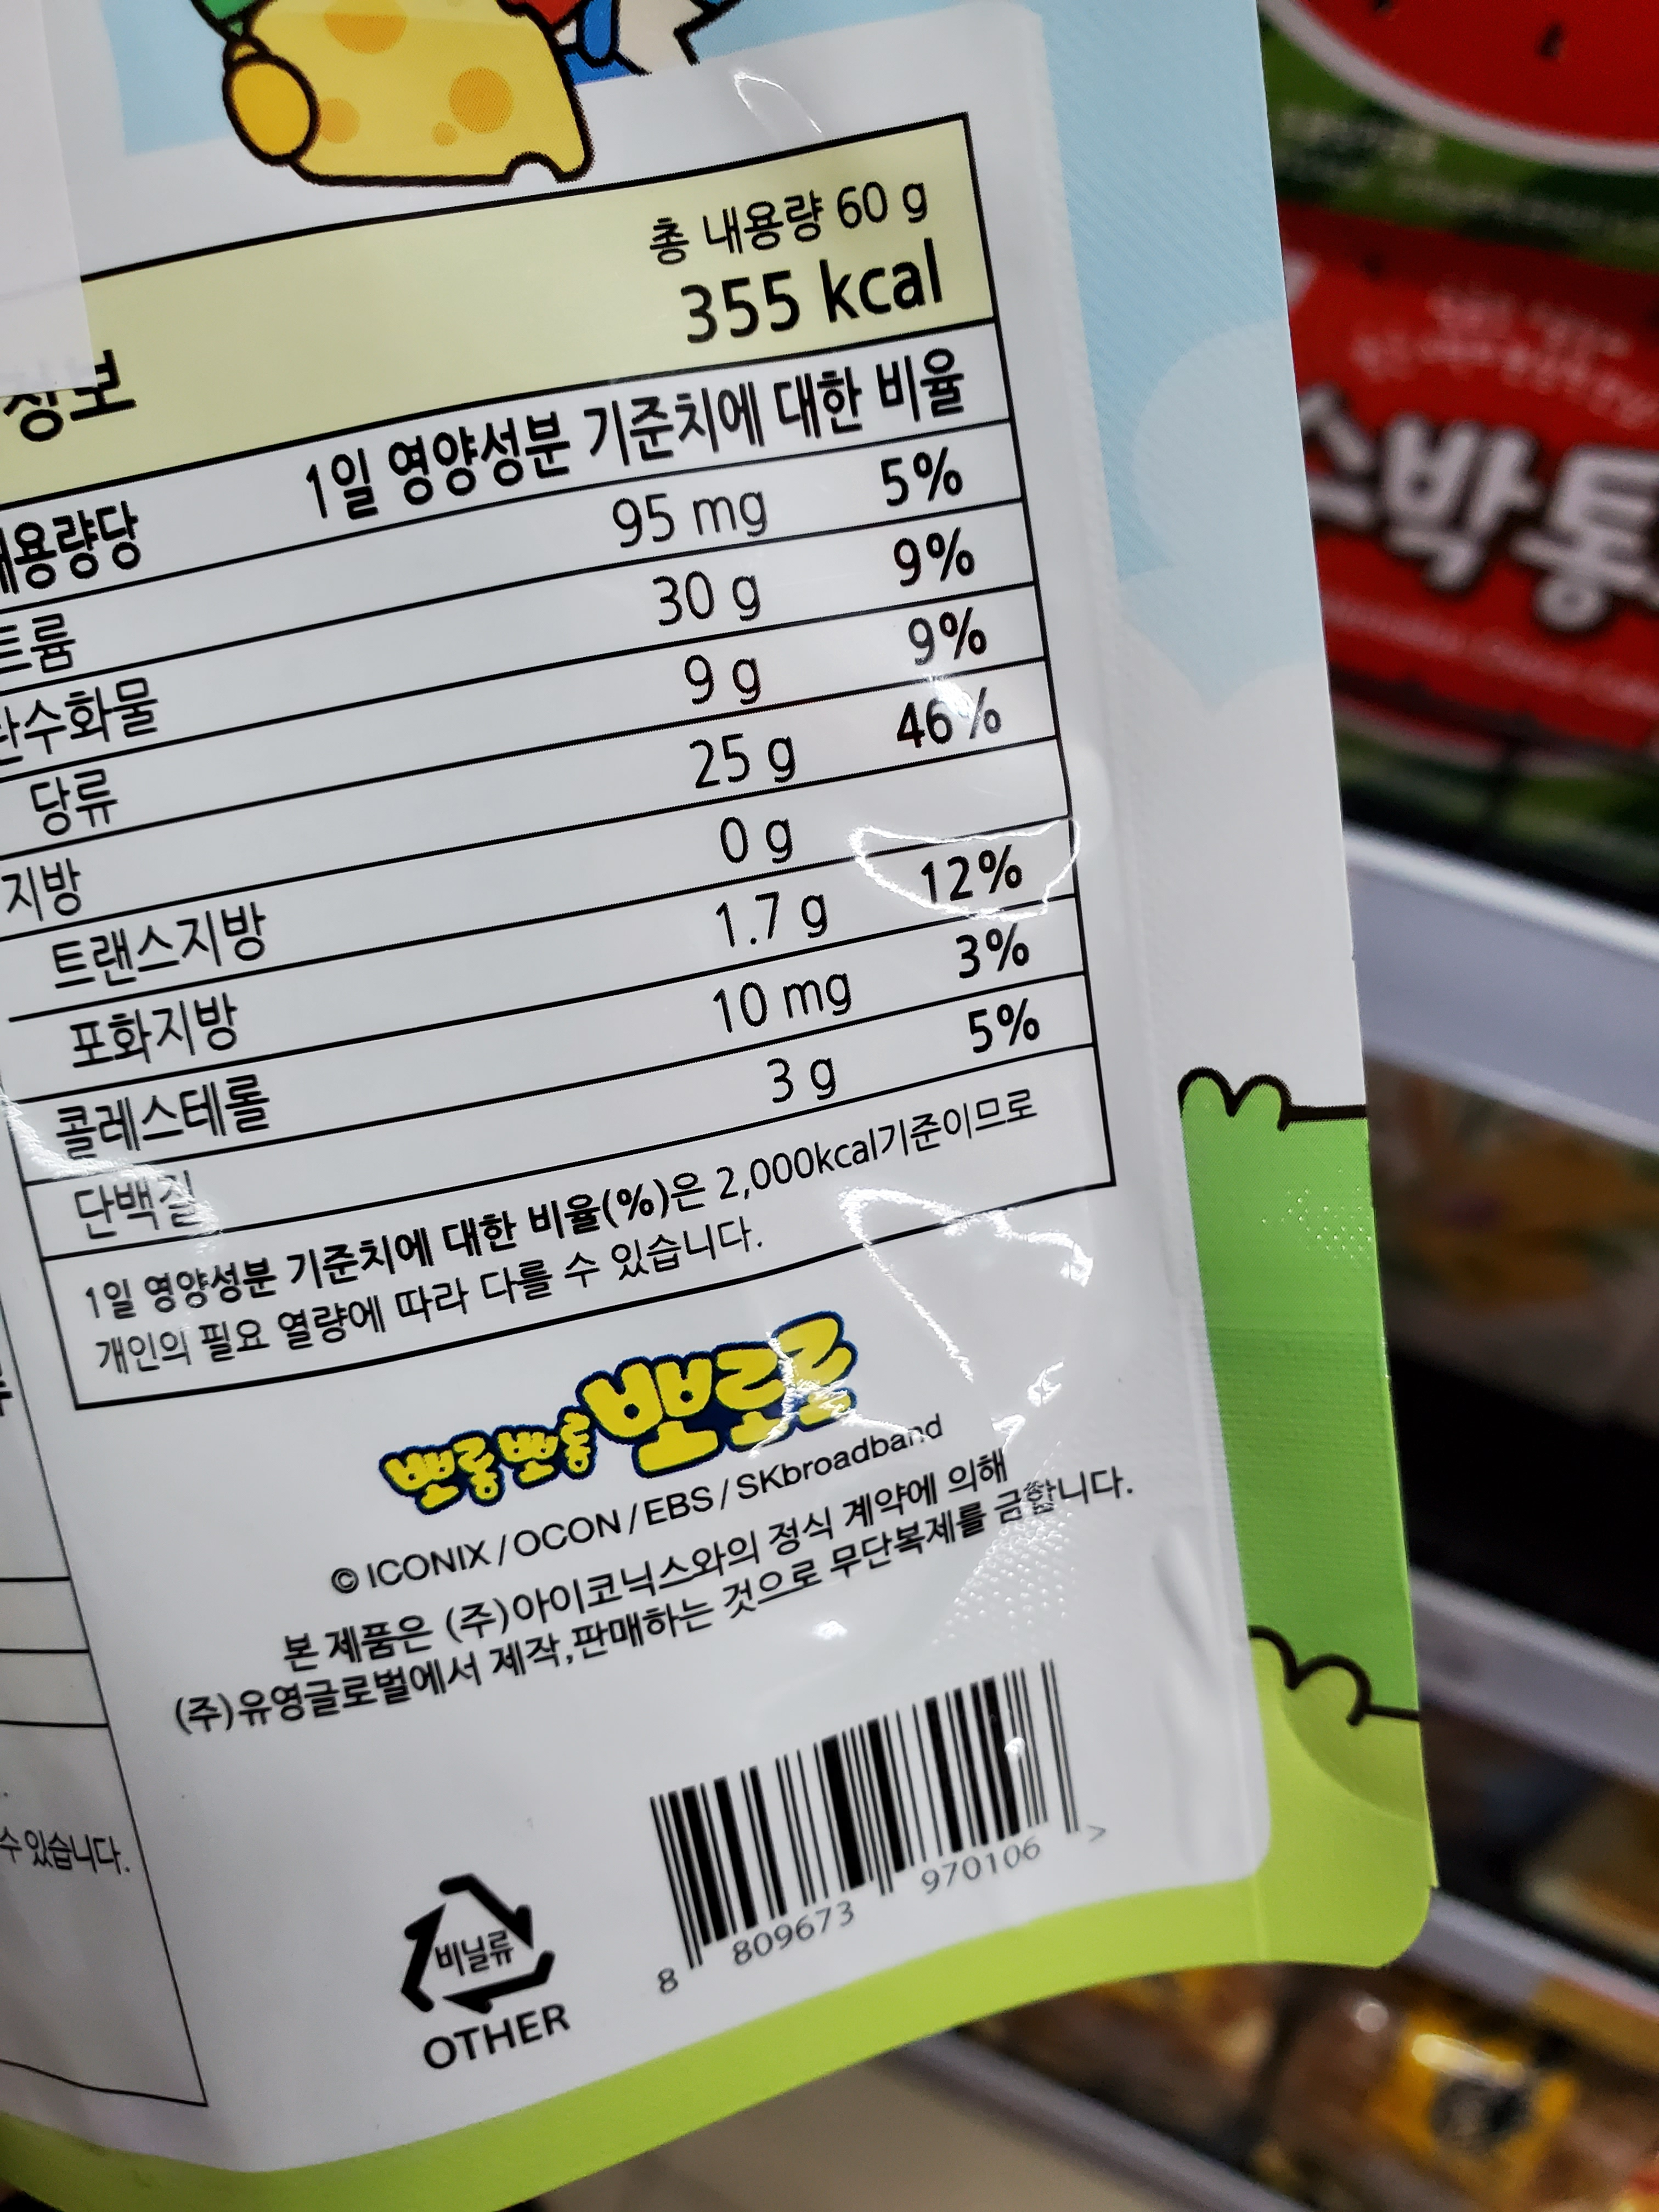barcode: (549, 1649, 1202, 1998)
